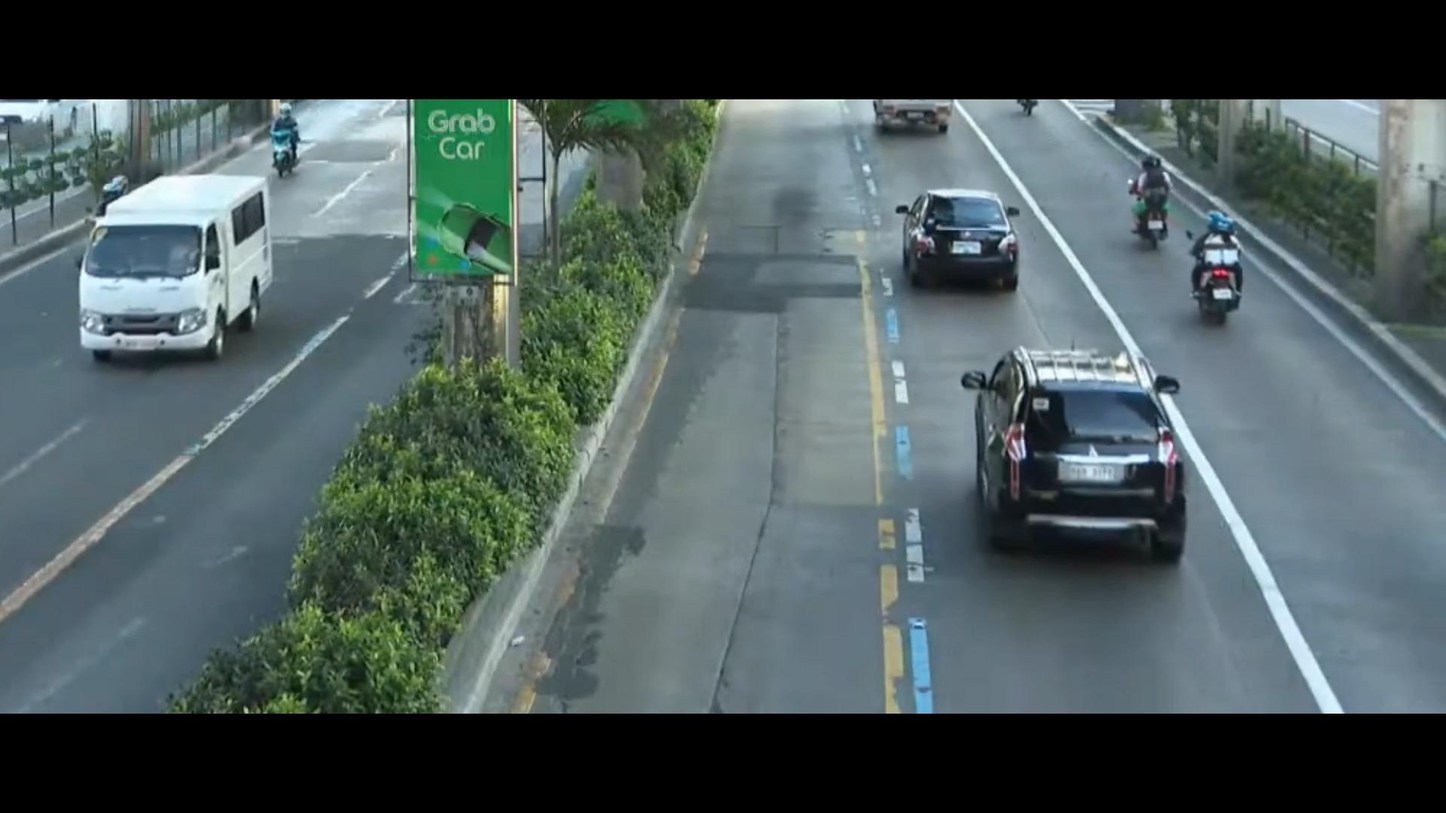Motorcycle: (1181, 187, 1270, 361), (1123, 142, 1200, 245), (266, 96, 320, 179)
Multicab: (72, 164, 292, 375)
SUV: (962, 322, 1220, 569)
Sedan: (891, 170, 1021, 295)
